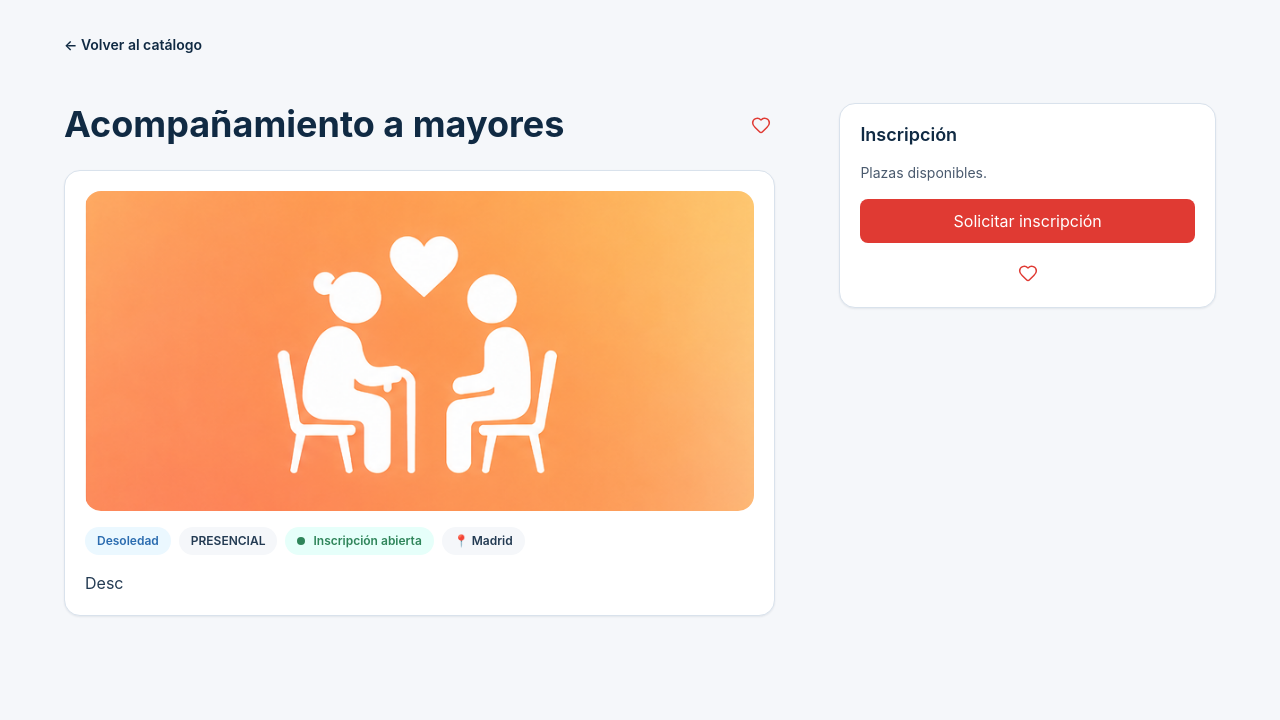
Test: Registrations sync #43 - tarjeta y ficha sin recargar › no construye ID ni posición localmente — usa RegistrationResponse tal cual
Expected: the heading "Acompañamiento a mayores" is shown, [64,103,564,146]
Click the button with test id "open-registration-modal": (1028, 221) [860,199,1195,243]
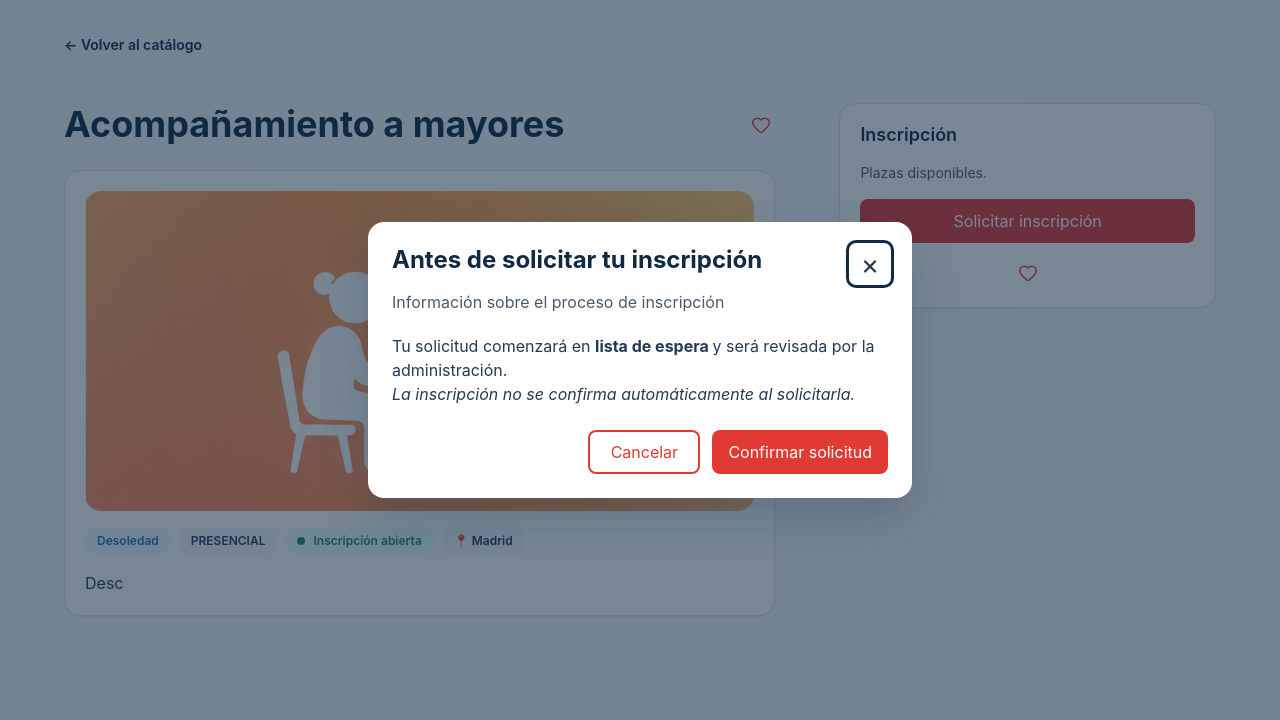
Now the dialog is shown, box [368,222,912,498]
Click the button with test id "confirm-registration": (800, 452) [712,430,888,474]
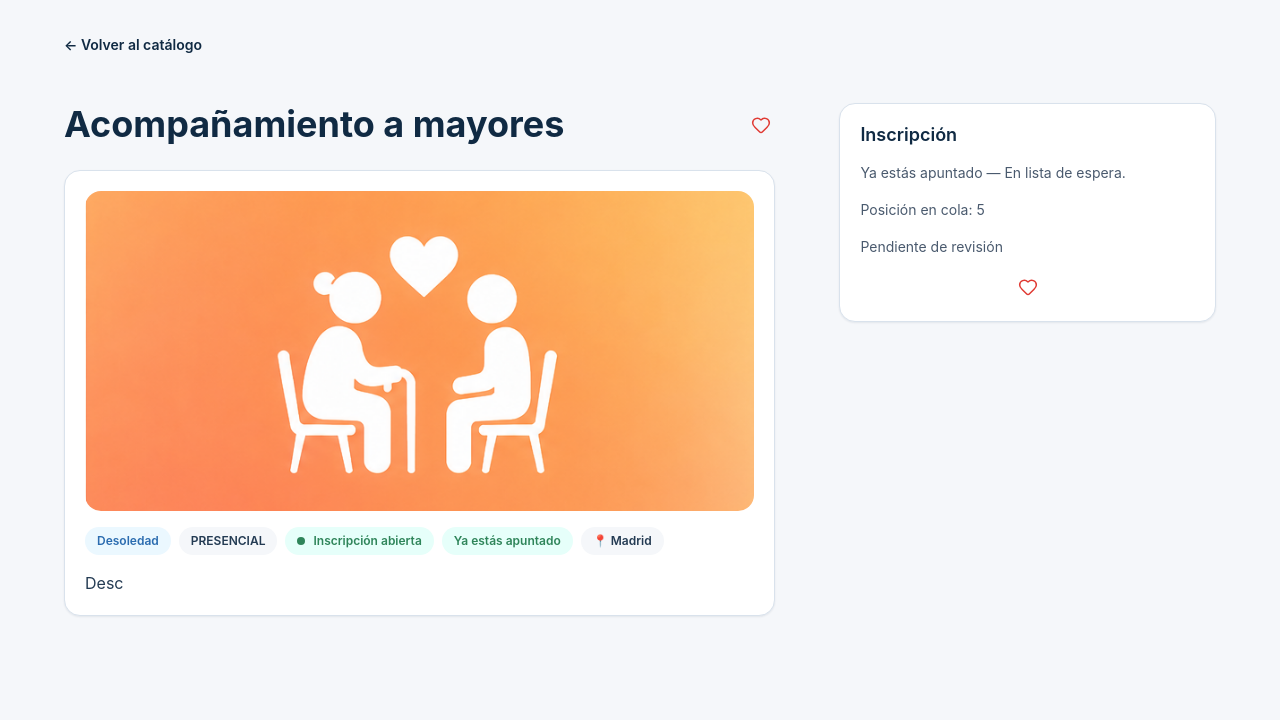
Now the text "Ya estás apuntado — En lista de espera." is shown, box [860,164,1126,181]
Now the text "Ya estás apuntado" is shown, box [442,527,573,555]
